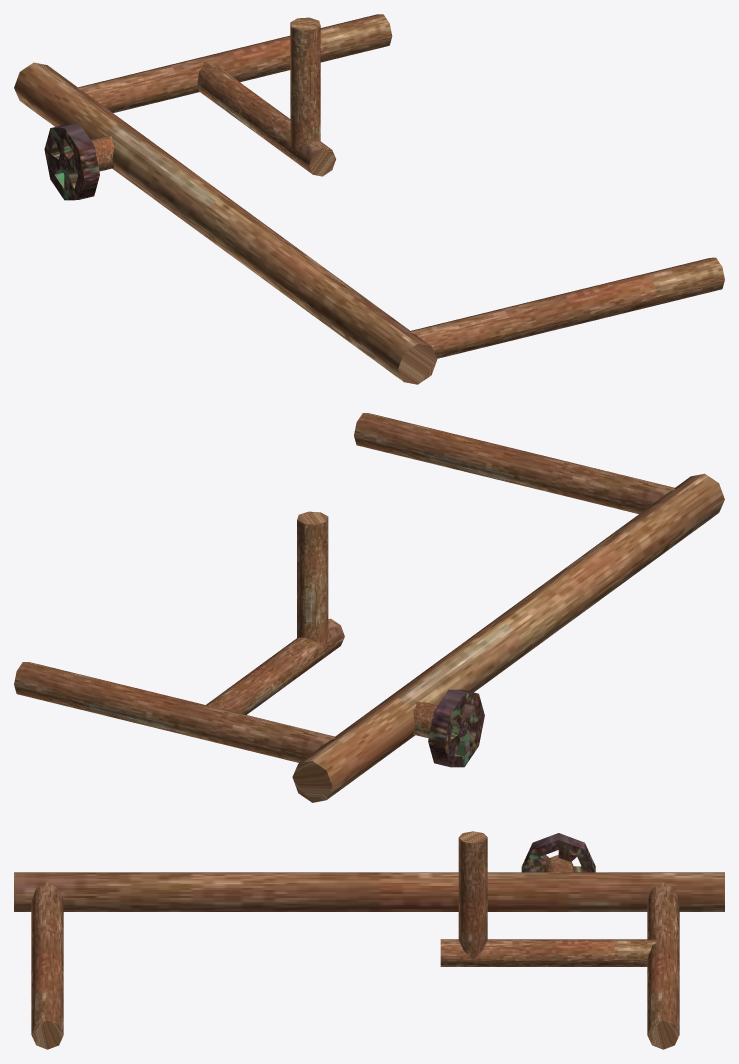
Rendered from pipe.FBX.
The picture shows the model from 3 angles, top to bottom: view 1: azimuth 30°, elevation 25°; view 2: azimuth 150°, elevation 25°; view 3: azimuth 270°, elevation 25°; orthographic projection. The views are drawn at different scales.
Parts seen in each view (by area): view 1: Cylinder001, Cylinder002, Cylinder003, Cylinder004, Cylinder005, Cylinder007, Cylinder006; view 2: Cylinder001, Cylinder002, Cylinder003, Cylinder004, Cylinder005, Cylinder007, Cylinder006; view 3: Cylinder001, Cylinder004, Cylinder002, Cylinder003, Cylinder005, Cylinder007, Cylinder006.
Boxes of the visible parts, <box> form: Cylinder001: <box>14,62,437,384</box>; Cylinder002: <box>410,257,724,358</box>; Cylinder003: <box>78,14,392,112</box>; Cylinder004: <box>197,61,335,176</box>; Cylinder005: <box>290,17,320,150</box>; Cylinder007: <box>44,124,99,200</box>; Cylinder006: <box>72,135,114,175</box>; Cylinder001: <box>292,473,724,802</box>; Cylinder002: <box>354,413,674,513</box>; Cylinder003: <box>14,662,335,762</box>; Cylinder004: <box>206,618,344,714</box>; Cylinder005: <box>297,511,328,647</box>; Cylinder007: <box>428,689,484,767</box>; Cylinder006: <box>413,701,437,738</box>; Cylinder001: <box>14,872,724,911</box>; Cylinder004: <box>440,939,658,966</box>; Cylinder002: <box>31,882,63,1049</box>; Cylinder003: <box>647,882,679,1049</box>; Cylinder005: <box>458,831,487,959</box>; Cylinder007: <box>521,833,595,872</box>; Cylinder006: <box>543,854,574,872</box>.
Size of the model in its own units: 41.58 by 17.2 by 73.65.
2 materials, 2 textured.
